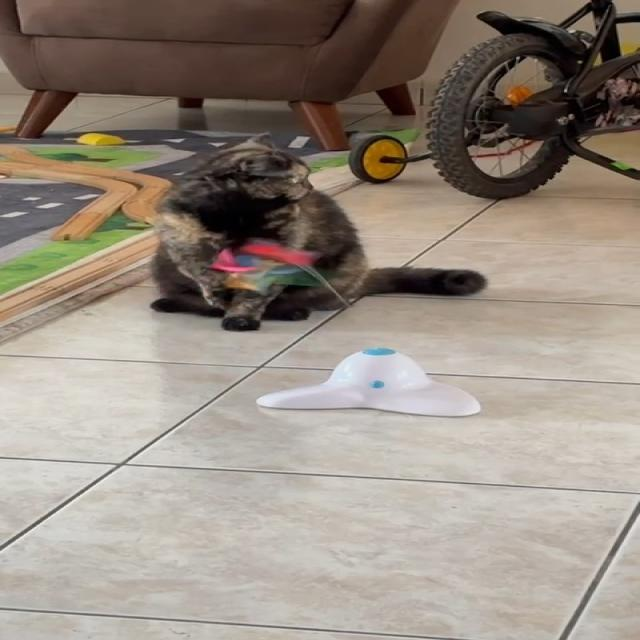authorized: (148, 132, 487, 332)
